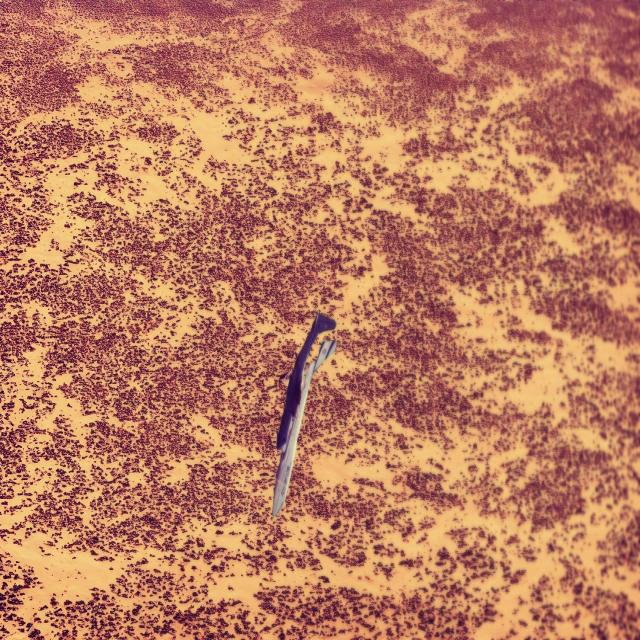airplane: (271, 310, 337, 518)
